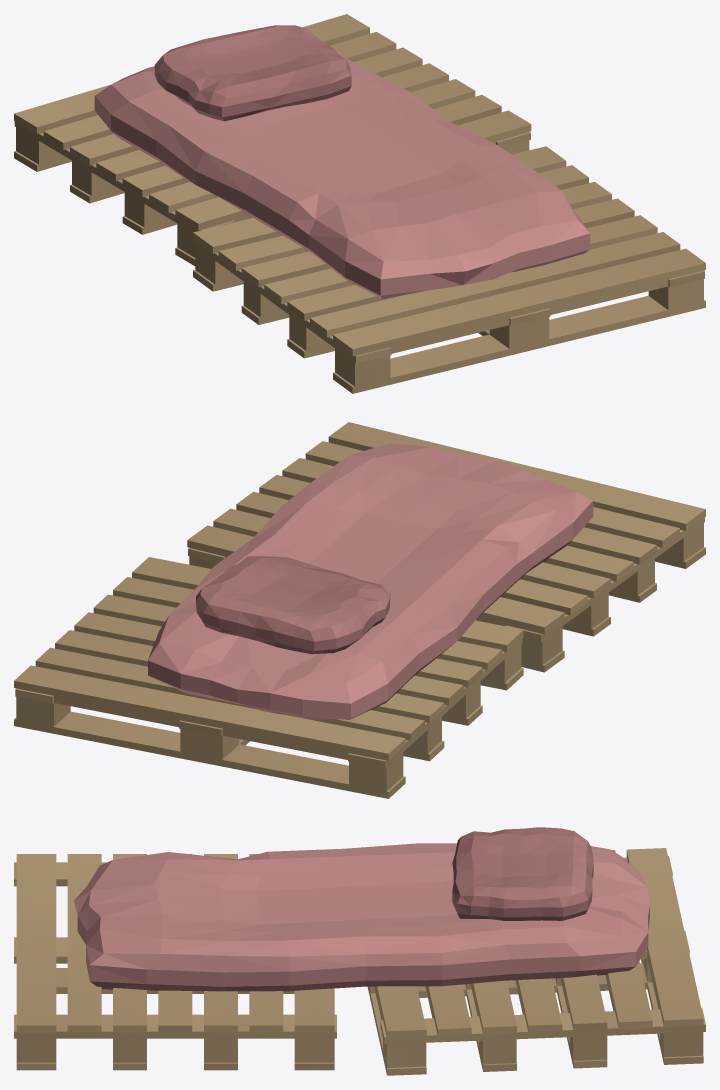
Rendered from bed.dae.
The picture shows the model from 3 angles, top to bottom: view 1: azimuth 30°, elevation 25°; view 2: azimuth 150°, elevation 25°; view 3: azimuth 270°, elevation 25°; orthographic projection.
Visible parts, largest first — view 1: mattress, pallet_1, pallet_2, pillow; view 2: mattress, pallet_2, pallet_1, pillow; view 3: mattress, pallet_2, pallet_1, pillow.
Part boxes in pixels (left/top/right/bottom): mattress: left=94, top=53, right=590, bottom=299; pallet_1: left=193, top=146, right=705, bottom=393; pallet_2: left=14, top=14, right=531, bottom=265; pillow: left=154, top=25, right=351, bottom=121; mattress: left=148, top=443, right=593, bottom=719; pallet_2: left=14, top=557, right=523, bottom=798; pallet_1: left=187, top=422, right=705, bottom=672; pillow: left=196, top=556, right=390, bottom=654; mattress: left=74, top=843, right=649, bottom=991; pallet_2: left=367, top=848, right=705, bottom=1075; pallet_1: left=14, top=854, right=336, bottom=1070; pillow: left=452, top=827, right=593, bottom=920.
Bounding box in the file's own units: 2.19 × 3.5 × 0.633.
